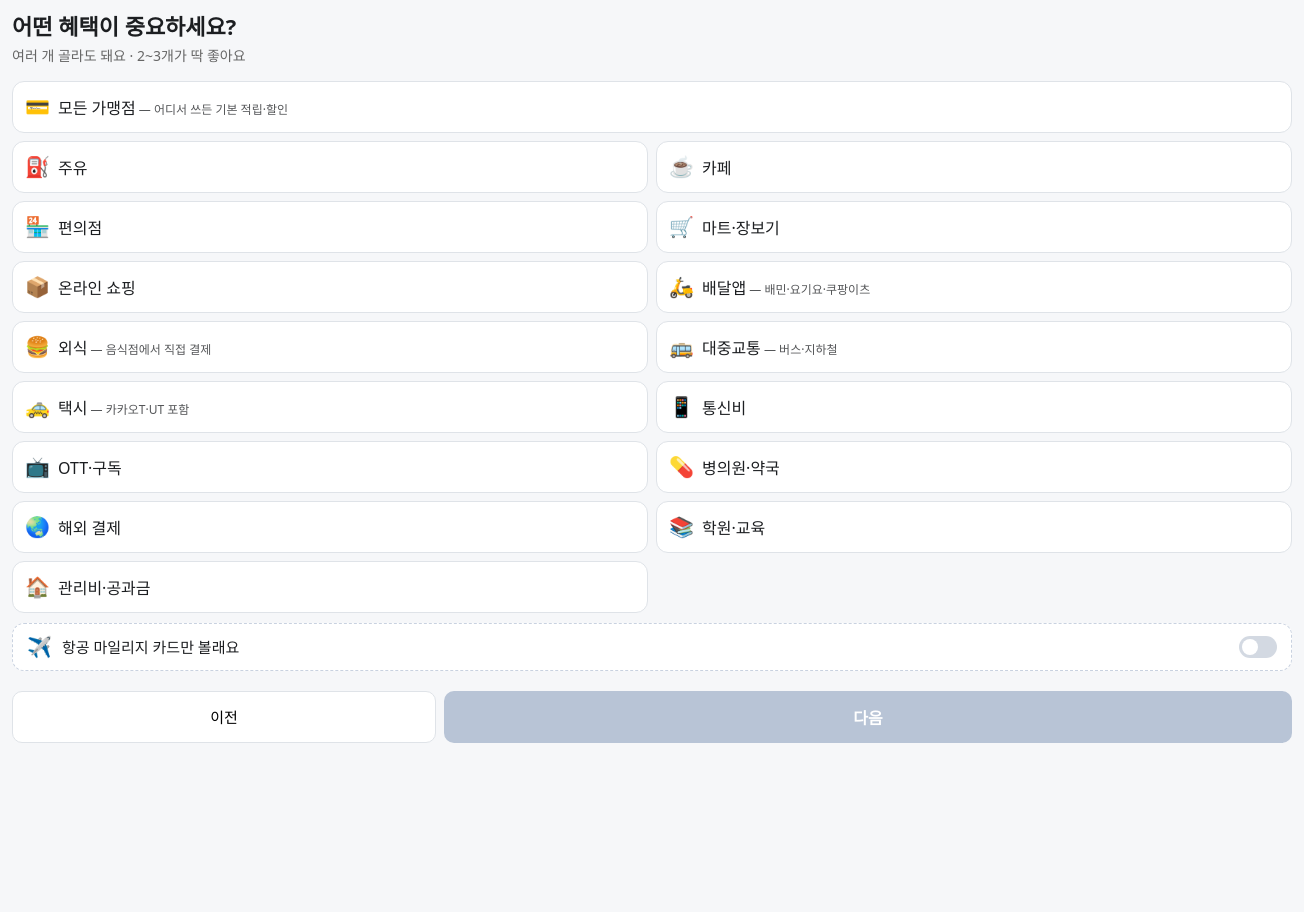
Test case: 4개째부터 안내 문구가 뜬다
The image size is (1304, 912).
Click the button "⛽ 주유": (37, 166) [12,141,648,193]
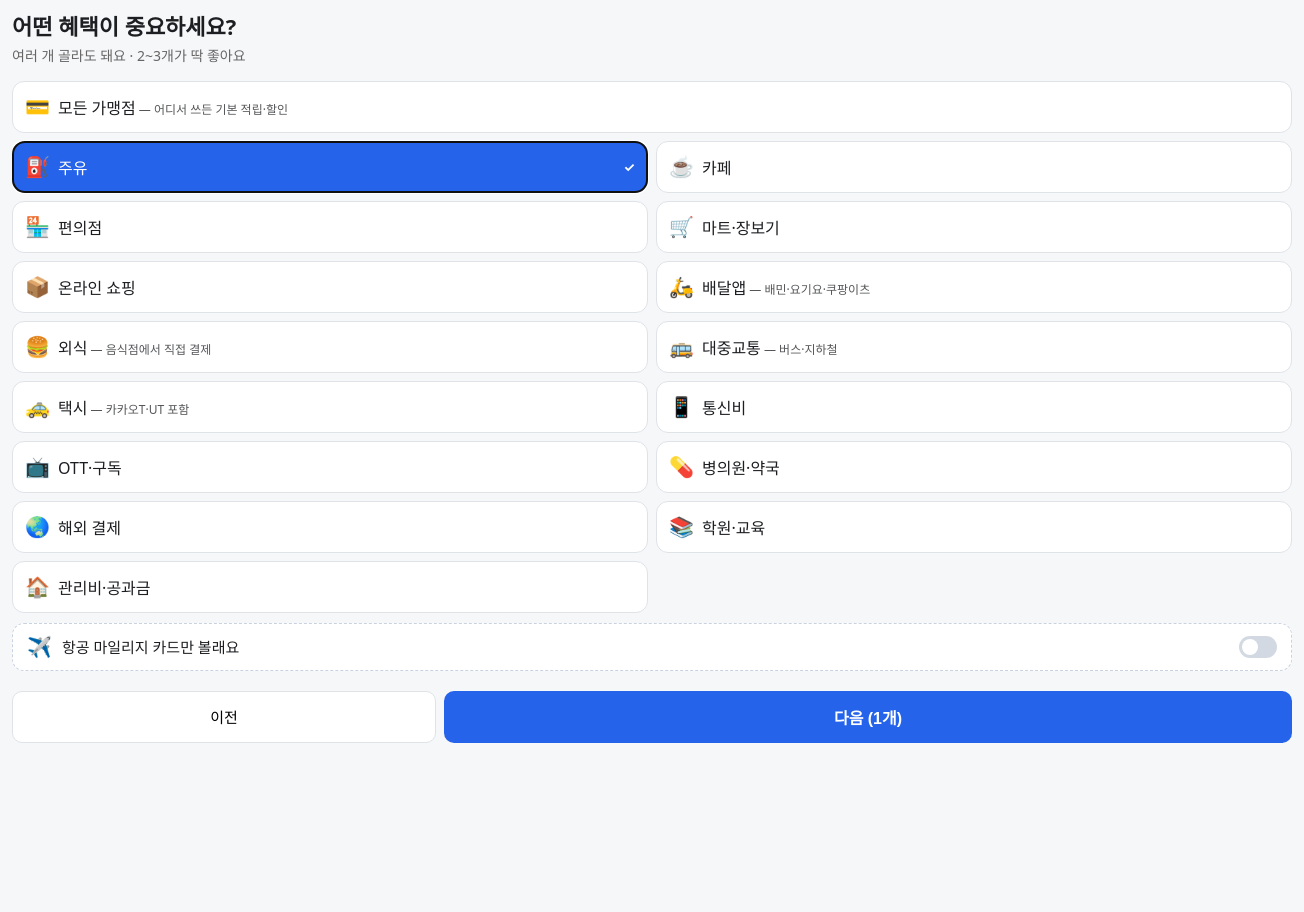
Click the button "☕ 카페": (681, 166) [656,141,1292,193]
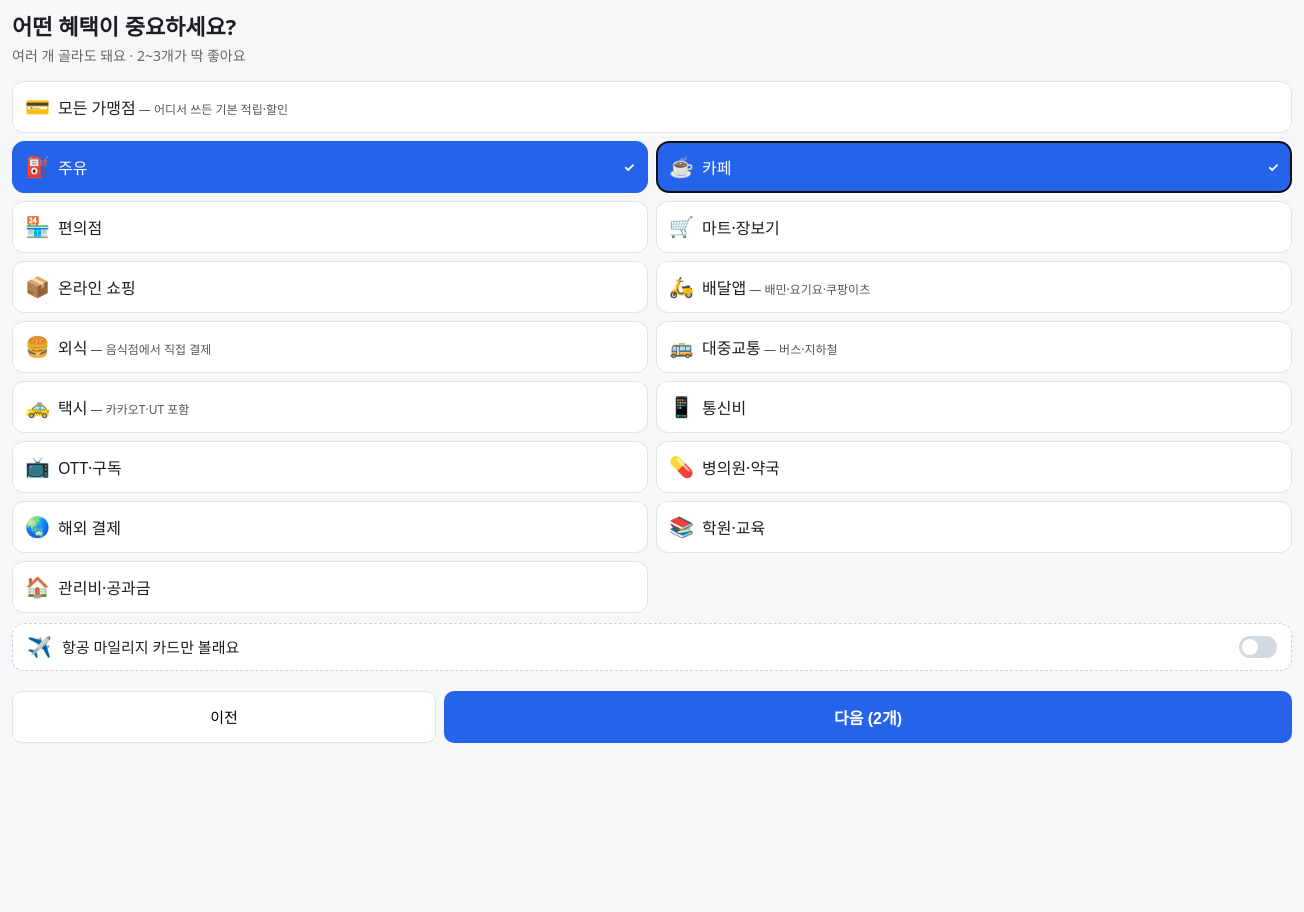
Click the button "🌏 해외 결제": (89, 528) [12,501,648,553]
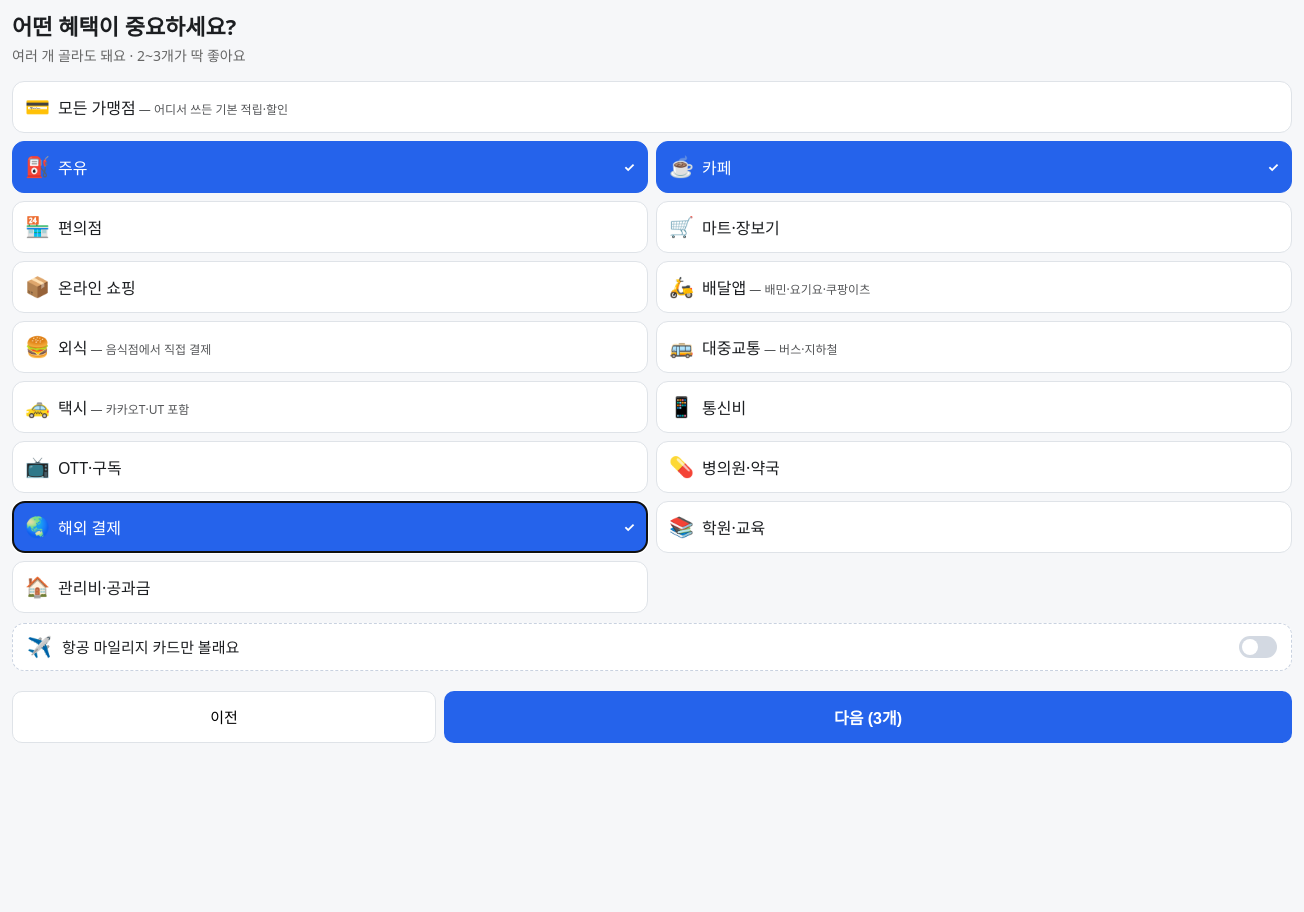
expect the text "많이 고르면 조건 많은 카드가 위로 와요 — 2~3개가 딱 좋아요" is not shown: met
Click the button "📦 온라인 쇼핑": (97, 288) [12,261,648,313]
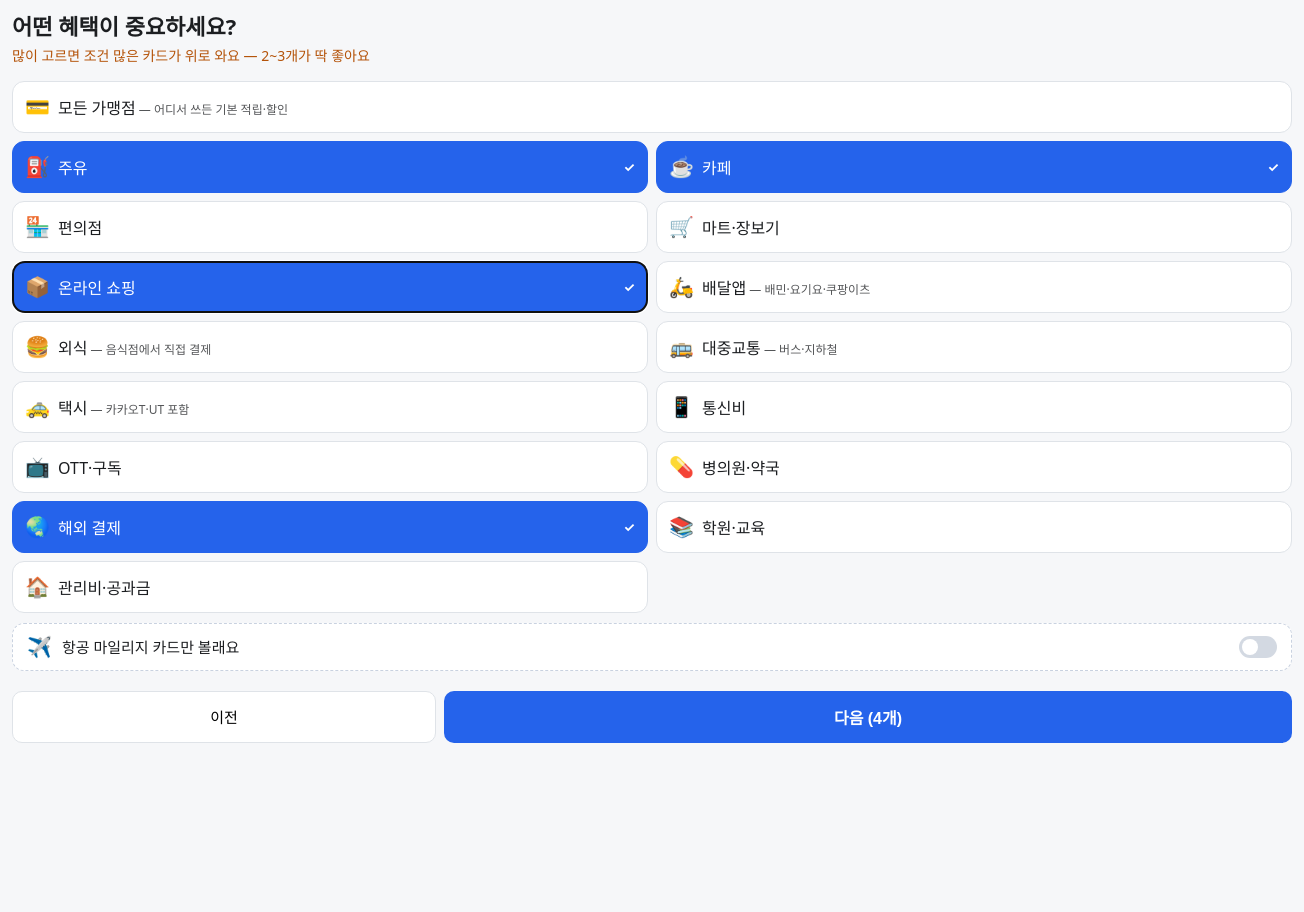
expect the text "많이 고르면 조건 많은 카드가 위로 와요 — 2~3개가 딱 좋아요" is shown: met, box [12,46,370,65]
